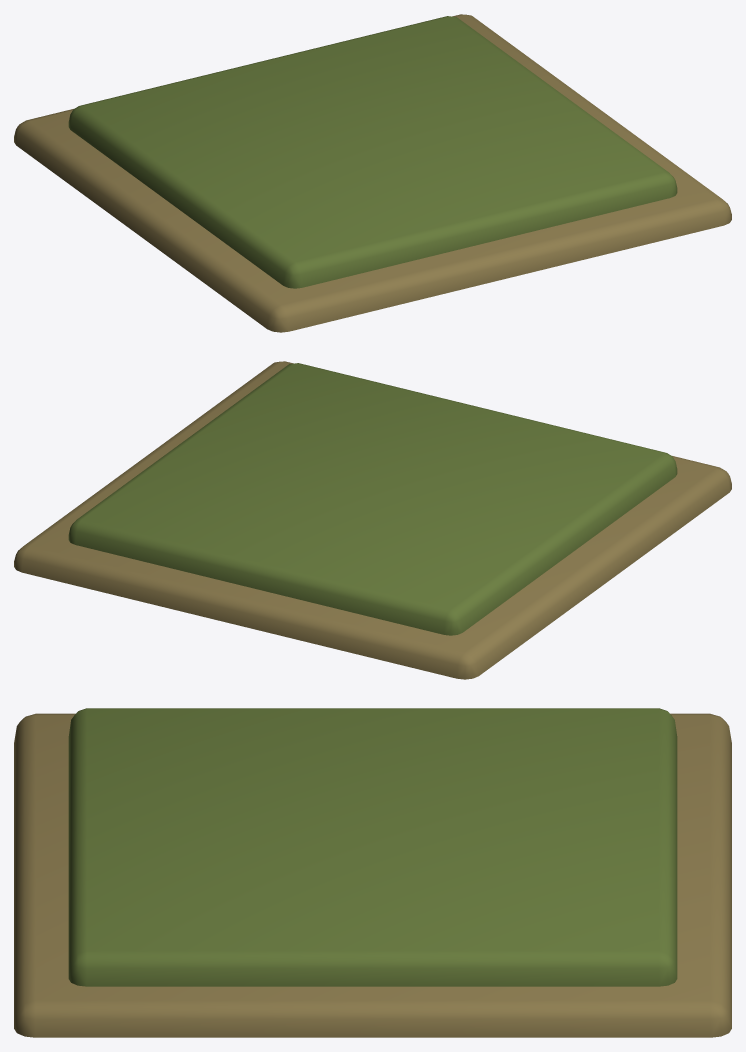
File: GridBase.fbx
The picture shows the model from 3 angles, top to bottom: view 1: azimuth 30°, elevation 25°; view 2: azimuth 150°, elevation 25°; view 3: azimuth 270°, elevation 25°; orthographic projection. The views are drawn at different scales.
Visible parts, largest first — view 1: GridBase; view 2: GridBase; view 3: GridBase.
Part boxes in pixels (left/top/right/bottom): GridBase: left=14, top=14, right=731, bottom=332; GridBase: left=14, top=361, right=731, bottom=679; GridBase: left=14, top=708, right=731, bottom=1037.
Size of the model in its own units: 2.53 by 0.2174 by 2.53.
